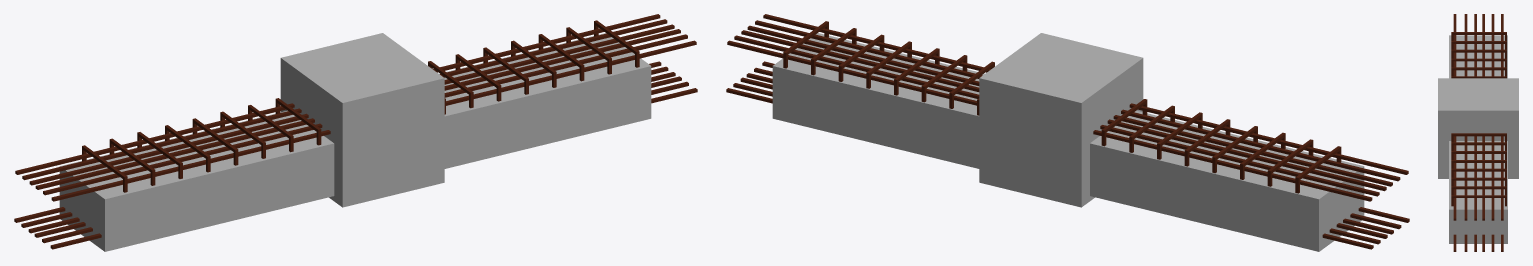
The model's file is PCa_coloumn_beam_I1.glb.
3 renders of one model, left to right at view 1: azimuth 30°, elevation 25°; view 2: azimuth 150°, elevation 25°; view 3: azimuth 270°, elevation 25°, orthographic. The views are drawn at different scales.
Parts seen in each view (by area): view 1: Cube.034; view 2: Cube.034; view 3: Cube.034.
Part boxes in pixels (box(x1,y1,x2,y2)): Cube.034: box(14, 14, 697, 251); Cube.034: box(726, 14, 1409, 251); Cube.034: box(1438, 14, 1518, 251).
Bounding box in the file's own units: 7.09 × 1.1 × 1.18.
